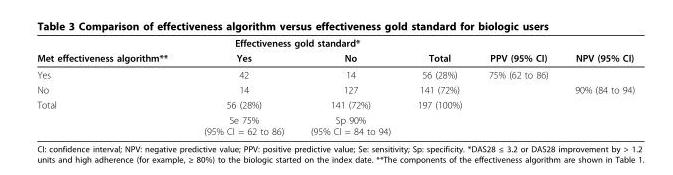table: (36, 36, 634, 136)
table column: (36, 36, 185, 136), (185, 36, 296, 136), (296, 36, 403, 136), (474, 36, 560, 136), (560, 36, 634, 136), (403, 36, 474, 136)
table column header: (36, 36, 634, 66)
table row: (36, 112, 634, 136), (36, 50, 634, 66), (36, 96, 634, 112), (36, 66, 634, 81), (36, 81, 634, 96), (36, 36, 634, 50)
table spanning cell: (36, 96, 185, 136), (36, 36, 185, 66), (185, 36, 403, 50), (474, 36, 560, 66), (560, 36, 634, 66), (403, 36, 474, 66)
